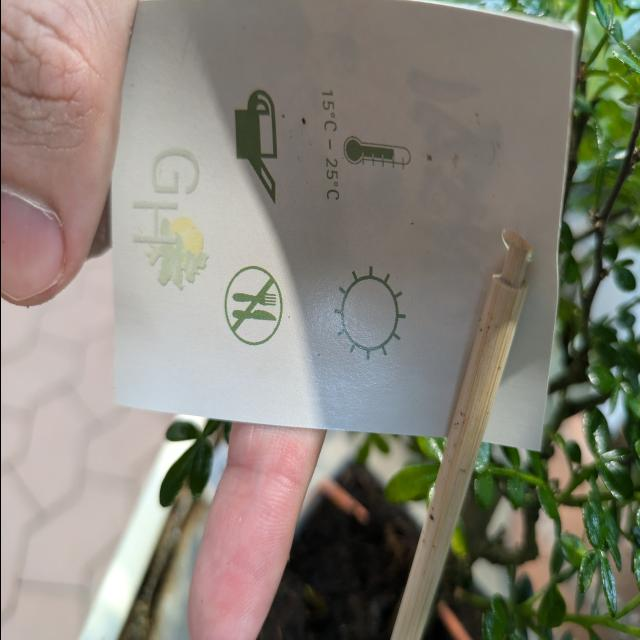mittel giesen: (224, 74, 284, 204)
sonnig: (317, 262, 418, 376)
